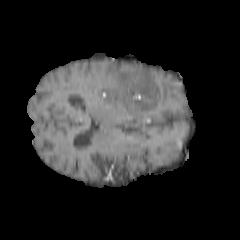glioma: (89, 68, 161, 111)
